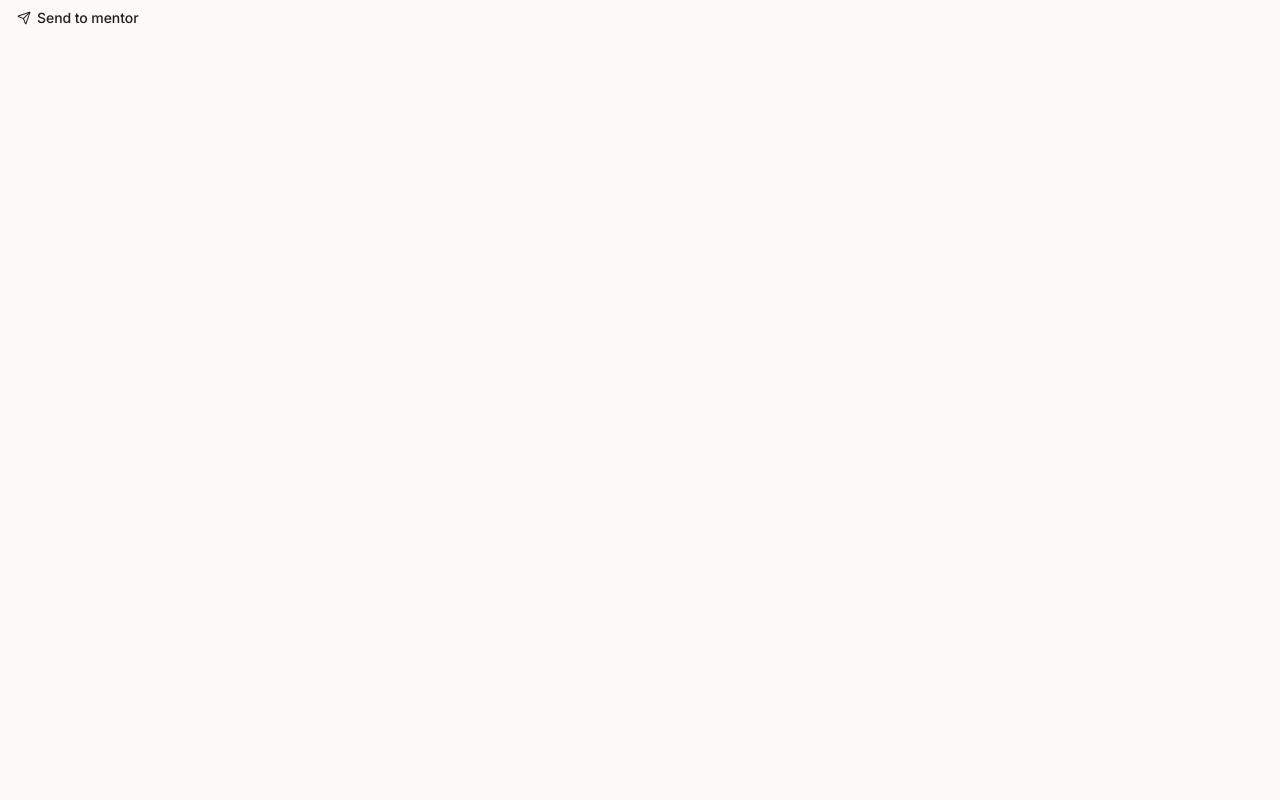
Test case: sending a small order to a mentor › reads the real wallet, not a stored one
Click the button "Send to mentor" at [78, 18], box [0,0,156,36]
(page scrolled)
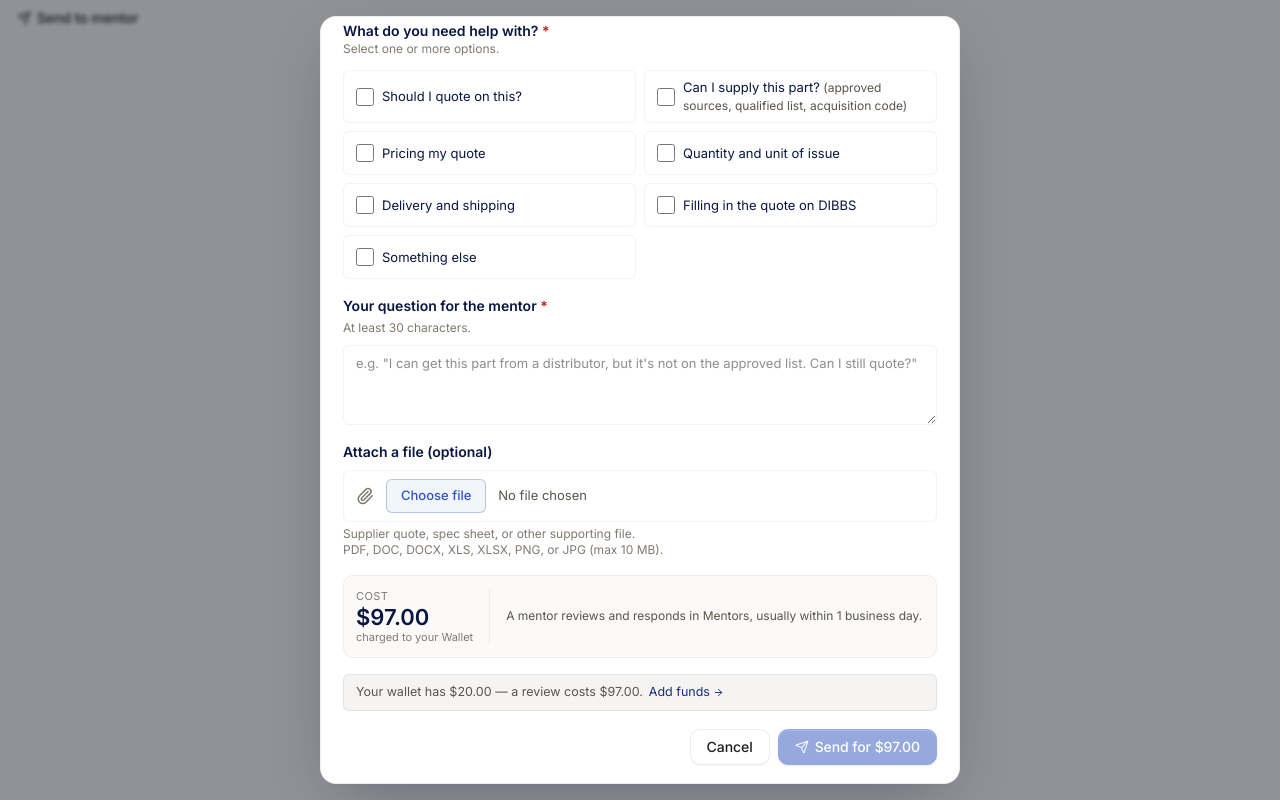
Expected: the text "Your wallet has $20.00 — a review costs $97.00. Add funds" is shown, [343,674,937,711]
